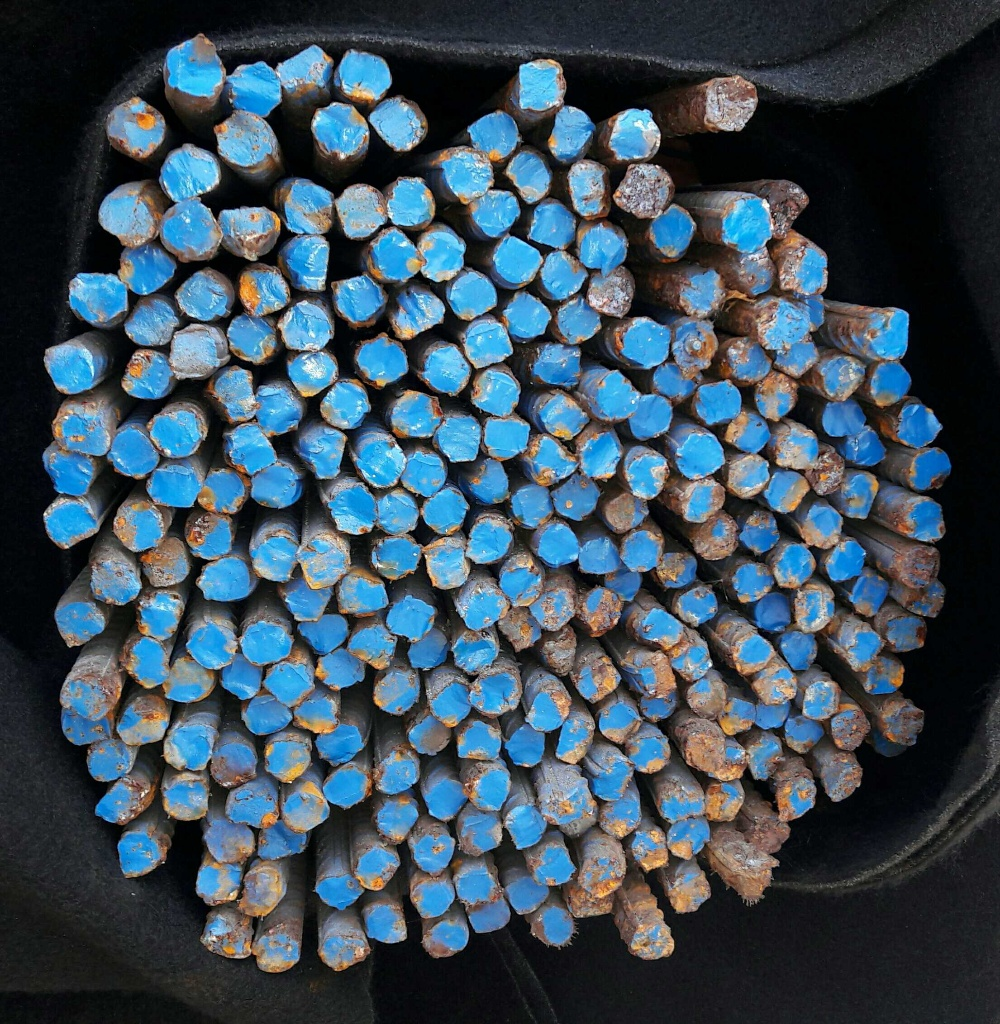dipstick: (156, 202, 224, 257), (39, 343, 101, 397), (94, 195, 154, 250), (106, 97, 162, 155), (180, 266, 235, 325), (222, 204, 281, 259), (386, 283, 449, 334), (162, 145, 220, 200), (316, 101, 370, 160), (373, 96, 426, 155), (335, 181, 387, 241), (284, 237, 336, 297), (216, 108, 270, 165), (43, 497, 100, 551), (171, 325, 223, 384), (67, 271, 123, 325), (279, 41, 332, 98), (247, 385, 305, 437), (517, 55, 566, 116), (438, 148, 493, 202), (209, 361, 254, 427), (370, 226, 423, 282), (151, 403, 204, 458), (121, 634, 173, 690), (280, 305, 337, 356), (352, 334, 411, 383), (611, 165, 670, 214), (54, 405, 114, 453), (168, 37, 221, 91), (287, 176, 335, 235), (111, 425, 164, 478), (540, 246, 591, 301), (41, 444, 92, 498), (329, 274, 384, 324), (319, 382, 374, 432), (708, 76, 757, 132), (564, 159, 610, 218), (231, 61, 281, 115), (241, 262, 291, 316), (197, 913, 253, 961), (119, 247, 177, 293), (281, 354, 339, 400), (242, 615, 293, 667), (385, 176, 435, 229), (339, 50, 393, 99), (184, 624, 240, 671), (333, 483, 378, 541), (466, 109, 517, 160), (227, 311, 277, 363), (609, 108, 659, 160), (144, 535, 190, 591), (835, 469, 877, 530), (128, 349, 178, 400), (89, 555, 140, 605), (471, 185, 520, 237), (357, 432, 405, 485), (56, 707, 119, 747), (490, 236, 540, 286), (392, 390, 443, 439), (54, 601, 106, 649), (195, 556, 248, 603), (450, 269, 499, 319), (113, 501, 162, 551), (463, 316, 514, 364), (298, 540, 349, 588), (368, 534, 419, 582), (162, 656, 214, 703), (205, 817, 257, 864), (476, 362, 521, 416), (127, 297, 176, 346), (158, 770, 207, 819), (299, 429, 347, 479), (422, 537, 469, 588), (419, 343, 465, 395), (421, 226, 464, 281), (469, 509, 512, 564), (529, 434, 578, 482), (118, 699, 167, 747), (623, 320, 672, 368), (504, 292, 551, 342), (530, 200, 577, 250), (679, 268, 726, 318), (386, 594, 432, 645), (207, 744, 258, 790), (468, 668, 519, 714), (768, 421, 814, 472), (784, 243, 829, 295), (144, 467, 197, 511), (55, 677, 113, 717), (646, 205, 694, 253), (504, 152, 551, 201), (188, 512, 232, 564), (320, 927, 372, 971), (674, 435, 727, 478), (764, 180, 806, 234), (760, 466, 808, 513), (727, 198, 773, 247), (539, 394, 589, 439), (670, 316, 715, 366), (580, 586, 626, 634), (589, 268, 638, 313), (595, 372, 640, 421), (623, 453, 672, 498), (469, 458, 513, 508), (277, 577, 332, 617), (254, 535, 297, 586), (536, 518, 579, 569), (577, 226, 629, 268), (440, 410, 481, 463), (312, 650, 365, 691), (227, 424, 273, 471), (230, 784, 276, 831), (681, 480, 729, 525), (723, 453, 771, 498), (247, 863, 284, 921), (378, 489, 424, 535), (484, 414, 529, 461), (349, 622, 396, 667), (455, 804, 502, 849), (553, 301, 600, 346), (628, 396, 673, 443), (198, 469, 246, 513), (377, 667, 420, 716), (220, 651, 263, 700), (868, 310, 911, 359), (624, 826, 670, 871), (695, 512, 740, 558), (165, 728, 212, 772), (843, 572, 887, 619), (551, 106, 590, 159), (733, 246, 776, 294), (904, 449, 953, 491), (450, 629, 500, 670), (724, 561, 776, 600), (407, 450, 451, 496), (540, 343, 583, 390), (81, 744, 140, 778), (264, 740, 314, 780), (843, 622, 883, 672), (298, 613, 349, 652), (255, 461, 299, 506), (335, 570, 379, 615), (554, 476, 599, 520), (621, 529, 664, 575), (754, 367, 792, 419), (259, 814, 306, 856), (700, 378, 742, 425), (723, 335, 771, 376), (197, 860, 246, 900), (839, 428, 889, 467), (379, 794, 417, 845), (136, 594, 180, 638), (899, 401, 943, 445), (774, 542, 816, 588), (329, 763, 370, 810), (245, 693, 292, 734), (794, 584, 834, 632), (602, 492, 651, 531), (552, 714, 590, 764), (744, 733, 782, 783), (869, 360, 913, 403), (762, 302, 805, 346), (632, 654, 677, 696), (685, 674, 726, 720), (460, 587, 507, 627), (661, 819, 709, 858), (595, 704, 643, 743), (741, 505, 780, 553), (511, 482, 553, 526), (778, 625, 820, 669), (533, 586, 574, 631), (501, 562, 546, 603), (113, 831, 159, 871), (660, 781, 706, 821), (315, 726, 363, 764), (600, 794, 638, 842), (654, 359, 696, 402), (753, 586, 794, 630), (265, 664, 310, 704), (255, 931, 300, 971), (529, 683, 565, 733), (506, 610, 545, 656), (595, 758, 634, 804), (532, 911, 579, 949), (364, 903, 406, 945), (503, 805, 545, 847), (285, 789, 328, 830), (413, 830, 453, 874), (798, 282, 830, 337), (428, 491, 467, 536), (422, 919, 467, 958), (535, 847, 573, 893), (706, 780, 744, 826), (315, 869, 363, 905), (359, 846, 401, 887), (669, 874, 711, 915), (630, 735, 672, 776), (680, 727, 722, 768), (576, 656, 619, 696), (821, 355, 861, 398), (736, 859, 774, 904), (579, 431, 620, 472), (96, 785, 144, 820), (629, 396, 671, 436), (413, 716, 456, 755), (458, 718, 496, 762), (578, 537, 622, 575), (752, 815, 789, 860), (379, 748, 418, 790), (300, 692, 338, 735), (545, 629, 577, 680), (429, 776, 466, 820), (679, 584, 716, 628), (777, 775, 814, 819), (898, 546, 944, 581), (904, 579, 944, 619), (579, 856, 621, 894), (676, 638, 714, 680), (638, 608, 681, 645), (805, 451, 842, 494), (816, 764, 861, 799), (433, 680, 473, 719), (732, 637, 771, 677), (505, 870, 543, 911), (830, 539, 868, 580), (866, 654, 903, 696), (507, 725, 543, 768), (571, 882, 611, 920), (658, 550, 696, 590), (410, 881, 456, 914), (405, 628, 446, 665), (549, 785, 591, 821), (883, 614, 925, 650), (824, 398, 866, 434), (635, 916, 670, 959), (832, 709, 867, 752), (911, 500, 946, 543), (804, 506, 841, 546), (756, 666, 797, 702), (455, 867, 497, 902), (468, 899, 512, 932), (885, 707, 923, 745), (732, 413, 768, 451), (804, 681, 839, 720), (778, 339, 817, 374), (470, 769, 507, 805), (606, 567, 645, 601), (640, 686, 680, 719), (751, 697, 794, 727), (782, 717, 822, 749), (711, 747, 747, 782), (560, 806, 599, 838), (674, 646, 710, 679), (720, 698, 753, 734), (874, 729, 910, 760)
